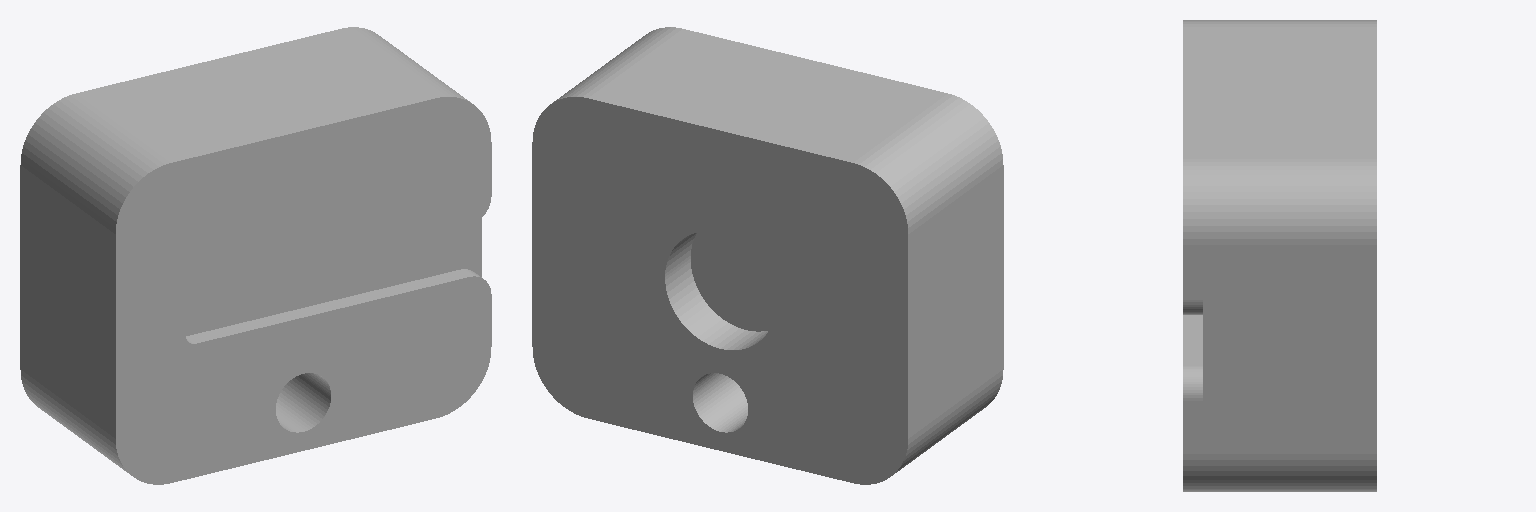
The robot description file, URDF, robot "root":
<?xml version='1.0' encoding='utf-8'?>
<robot name="root">
  <link name="link_001">
    <visual>
      <origin xyz="0 0 0" rpy="0 0 0" />
      <geometry>
        <mesh filename="eb94706ddc01aec3419de36b52250f7b1eb05b56dbedb055f87c6f414fcc700c_scale_008.stl" scale="1.0000E+00 1.0000E+00 1.0000E+00" />
      </geometry>
      <material name="">
        <color rgba="7.50E-01 7.50E-01 7.50E-01 1" />
      </material>
    </visual>
    <collision>
      <origin xyz="0 0 0" rpy="0 0 0" />
      <geometry>
        <mesh filename="eb94706ddc01aec3419de36b52250f7b1eb05b56dbedb055f87c6f414fcc700c_scale_008.stl" scale="1.0000E+00 1.0000E+00 1.0000E+00" />
      </geometry>
    </collision>
  </link>
</robot>

--- What the picture shows (computed from the rendered views, not written in the file) ---
The picture shows the robot from 3 angles, left to right: view 1: azimuth 30°, elevation 25°; view 2: azimuth 150°, elevation 25°; view 3: azimuth 270°, elevation 25°; orthographic projection.
Model root with 1 links and 0 joints (none), rooted at link_001, posed all joints at 0.
Visible links, largest first — view 1: link_001; view 2: link_001; view 3: link_001.
Boxes of the visible links, x1,y1,x2,y2 form: link_001: (20, 27, 491, 484); link_001: (532, 27, 1003, 484); link_001: (1183, 20, 1376, 491).
Bounding box of the posed robot: 0.11 × 0.0482 × 0.0896 m (x, y, z).
Meshes: 1 distinct files referenced, 1 mesh visuals loaded (1 binary STL).
